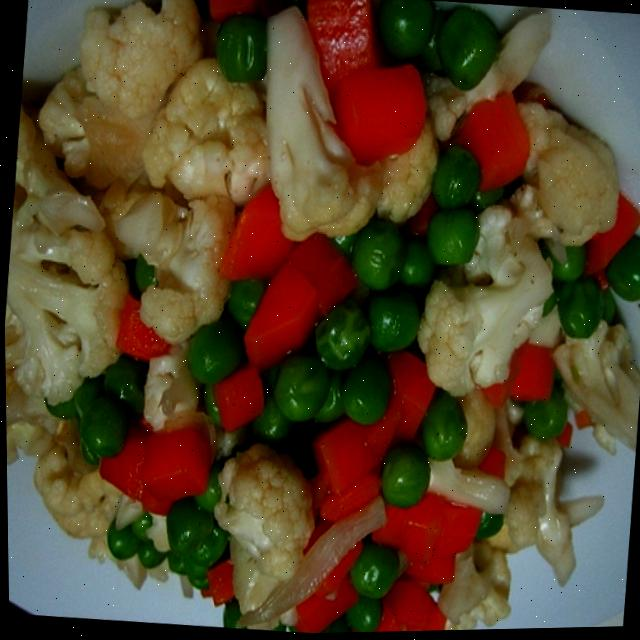蔬菜料理: (0, 1, 640, 637)
